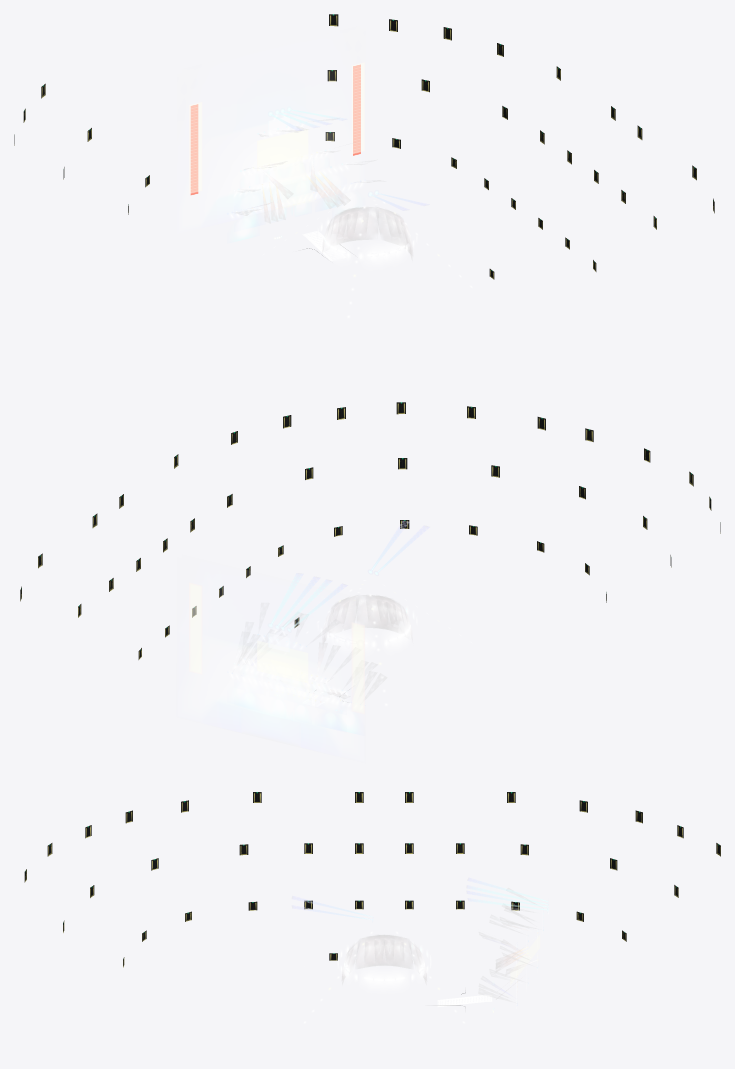
Rendered from wrestlemania26_fx.glb.
3 views of the same model, one above another, from view 1: azimuth 30°, elevation 25°; view 2: azimuth 150°, elevation 25°; view 3: azimuth 270°, elevation 25° (orthographic). The views are drawn at different scales.
Parts seen in each view (by area): view 1: Glow; view 2: Glow; view 3: Glow.
Boxes of the visible parts, <box> form: Glow: <box>14,14,714,317</box>; Glow: <box>20,402,720,761</box>; Glow: <box>24,792,720,1023</box>.
Size of the model in its own units: 132 by 40.01 by 166.
Materials: 13 (13 with a texture image).
